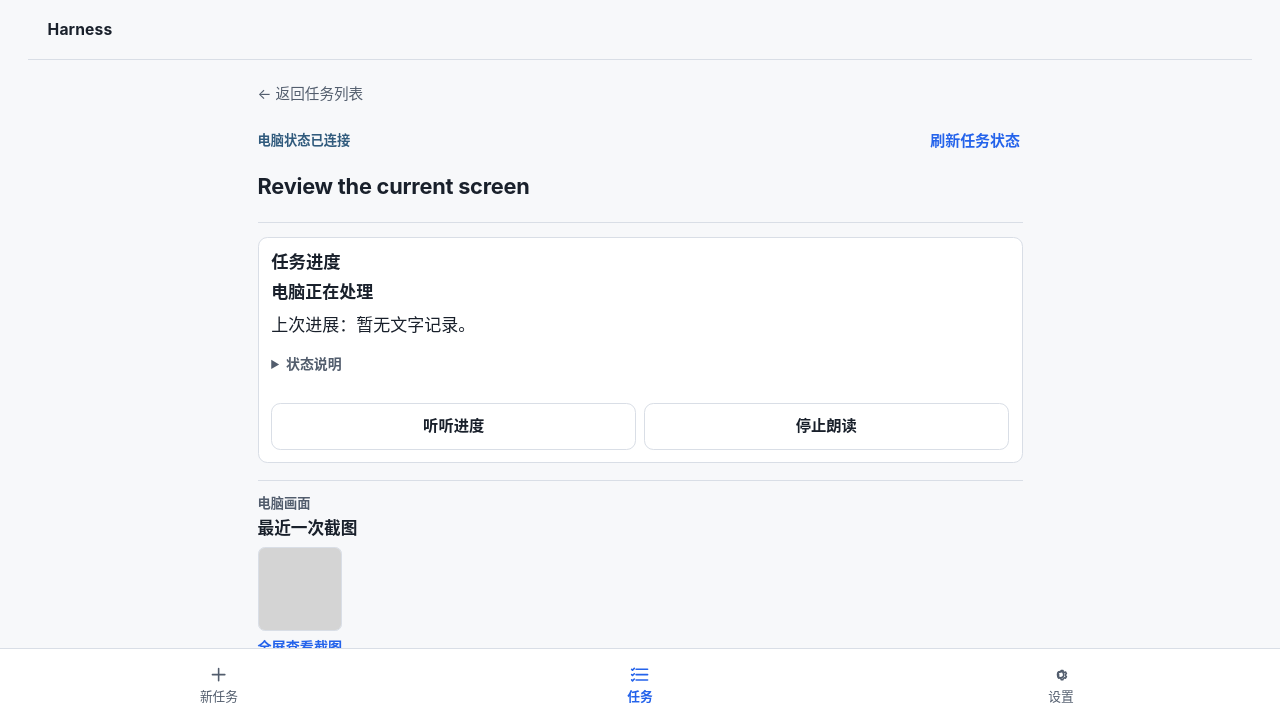
Test: request-bound screenshot lifecycle › shows visible speech fallback text when an output adapter is unavailable
Click the button "听听进度" at (454, 426), box [271, 403, 636, 450]
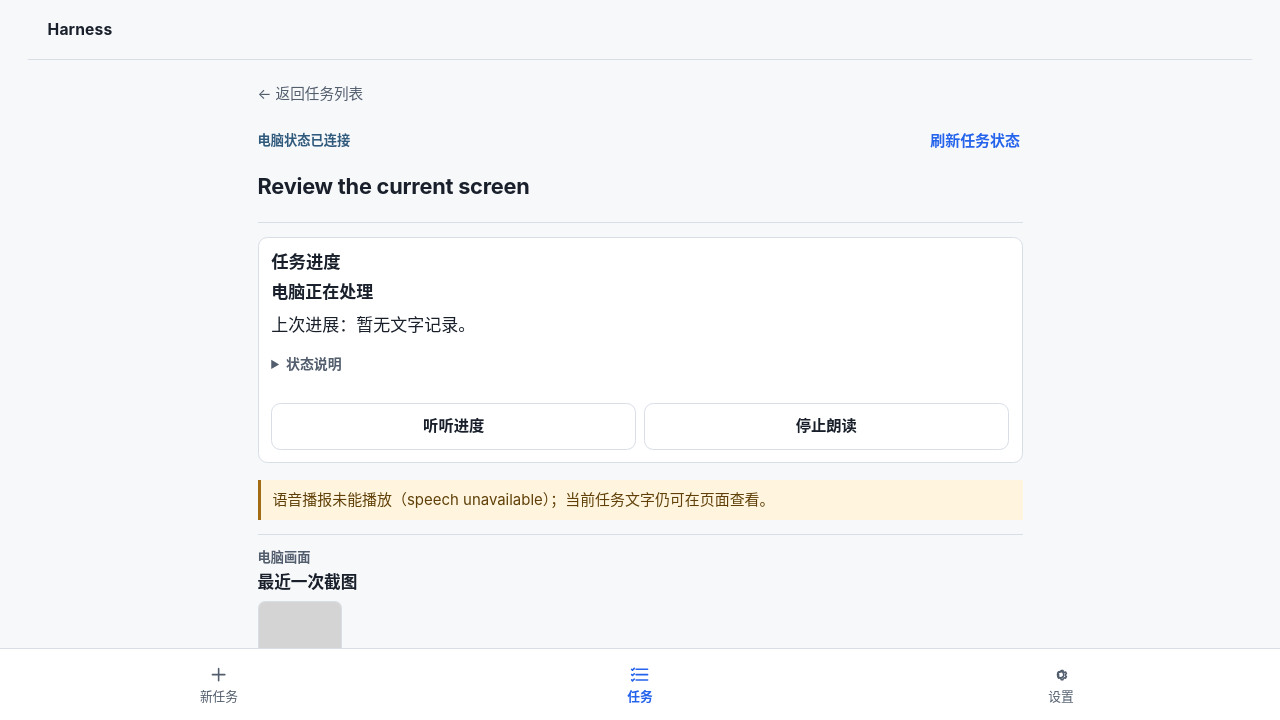
Expected: the text "上次进展：暂无文字记录。" is shown, [271, 315, 475, 335]
Result: the text "语音播报未能播放（speech unavailable）；当前任务文字仍可在页面查看。" is shown at [258, 480, 1022, 520]
